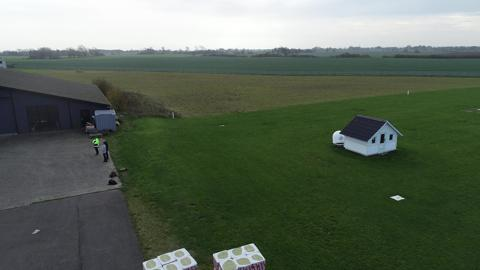RockwoolPallet: (144, 249, 197, 270)
